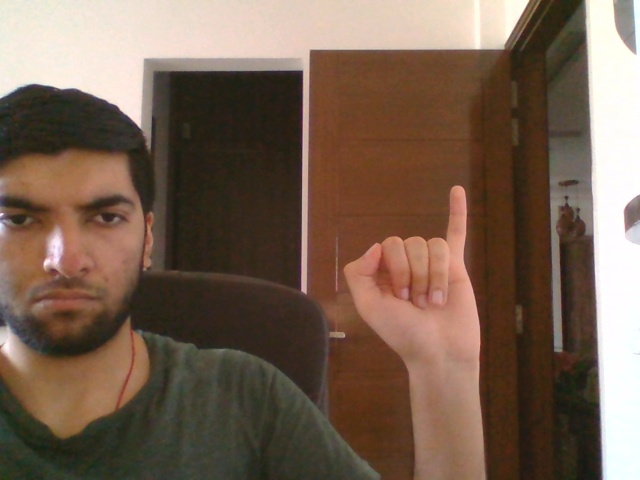LetterI: (343, 185, 481, 367)
